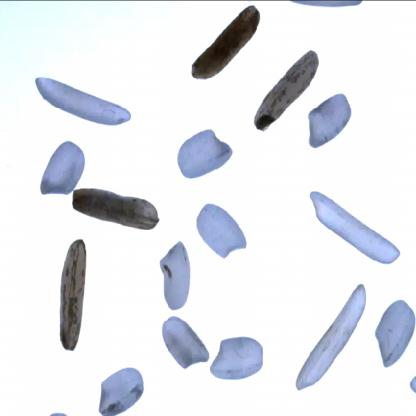Full: (295, 284, 366, 392), (310, 189, 400, 266), (254, 50, 319, 132), (34, 74, 132, 127), (190, 6, 261, 79), (71, 186, 158, 231), (374, 297, 416, 372), (60, 240, 87, 352), (197, 200, 246, 259), (177, 128, 233, 177), (40, 140, 85, 196), (162, 316, 209, 369), (210, 336, 265, 380), (97, 366, 144, 416), (309, 94, 352, 147), (159, 242, 192, 310)
